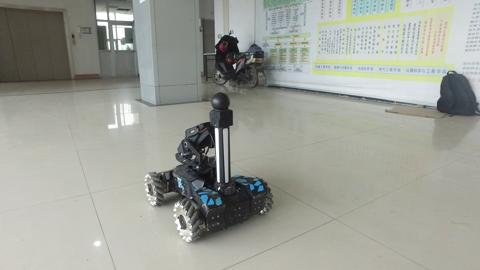bag: (432, 63, 477, 123)
chariot: (132, 88, 287, 245)
